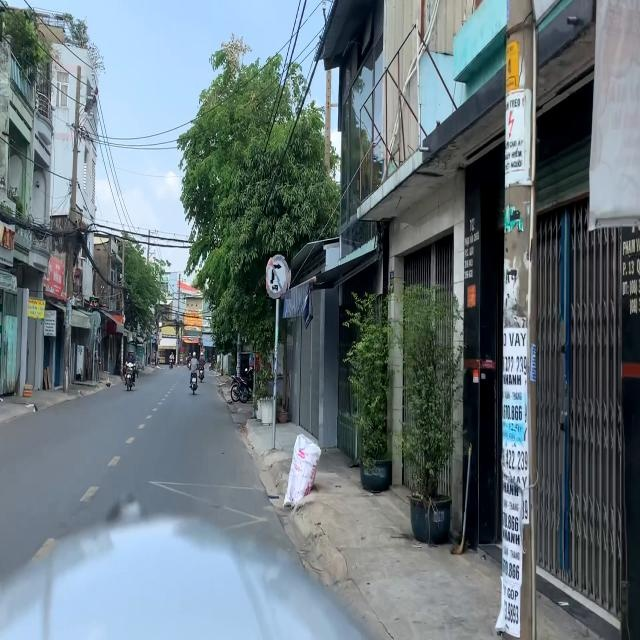bien_cam: (266, 251, 291, 299)
